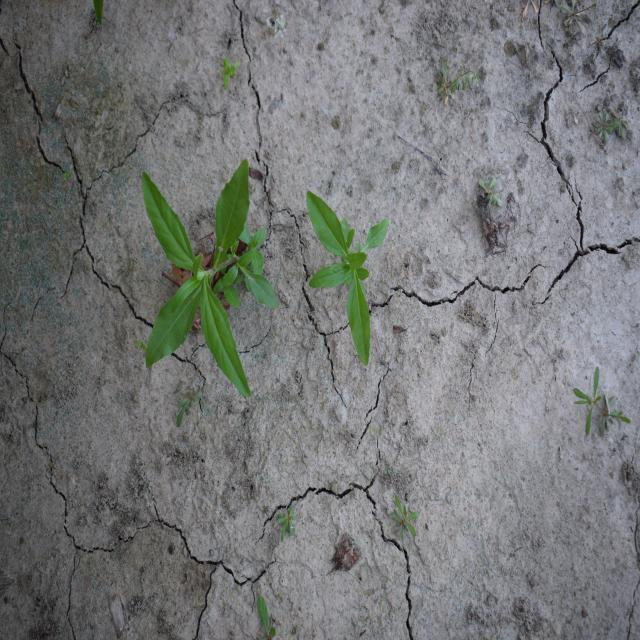Carpetweed: (572, 365, 632, 442), (433, 57, 477, 105), (593, 101, 631, 149), (387, 491, 420, 542), (275, 503, 298, 542)
Eclipta: (142, 157, 280, 402), (305, 188, 390, 368)
